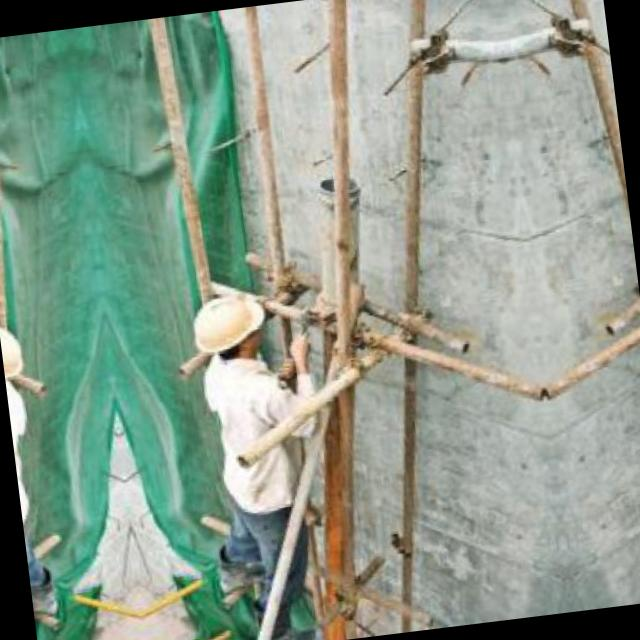helmet: (175, 277, 284, 385), (0, 305, 40, 407)
